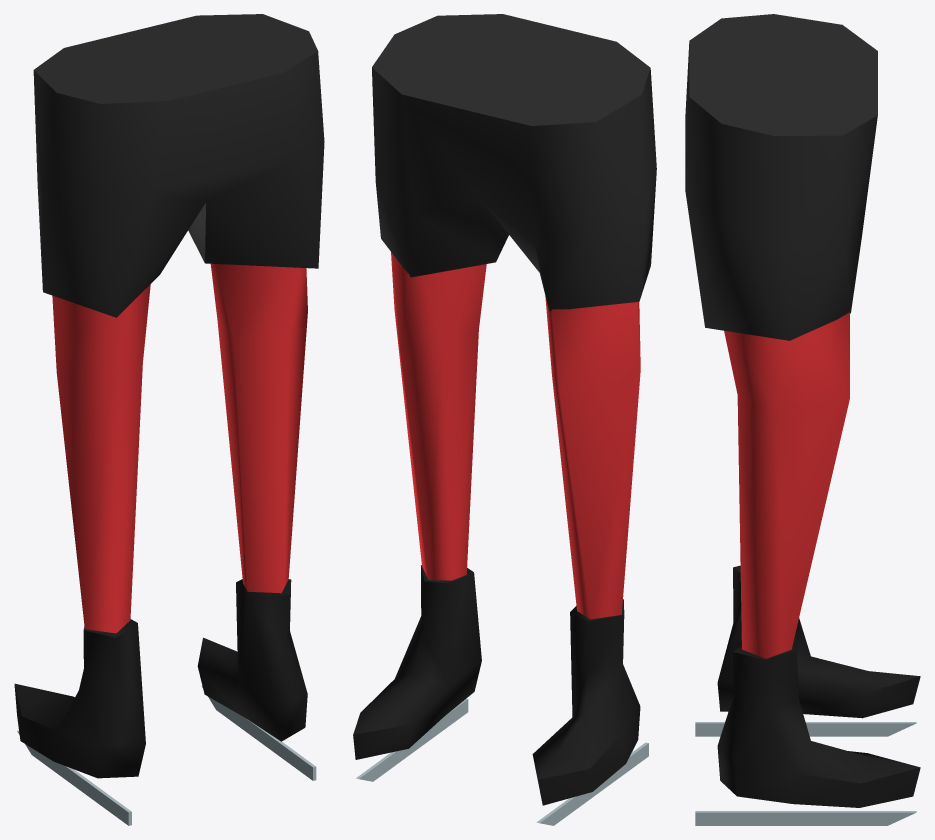
The model's file is redlower.glb.
The picture shows the model from 3 angles, left to right: view 1: azimuth 30°, elevation 25°; view 2: azimuth 150°, elevation 25°; view 3: azimuth 270°, elevation 25°; orthographic projection. The views are drawn at different scales.
Visible parts, largest first — view 1: baselower; view 2: baselower; view 3: baselower.
Part boxes in pixels (<box>): baselower: <box>14,14,324,825</box>; baselower: <box>353,14,656,825</box>; baselower: <box>685,14,920,825</box>.
Size of the model in its own units: 0.2947 by 0.7488 by 0.2245.
Materials: 1 (1 with a texture image).
